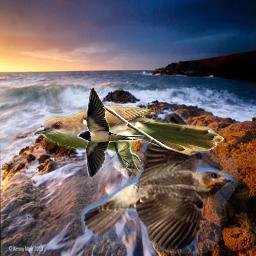Cuckoo: (33, 105, 225, 172)
Swallow: (81, 110, 238, 253), (77, 86, 146, 180)
